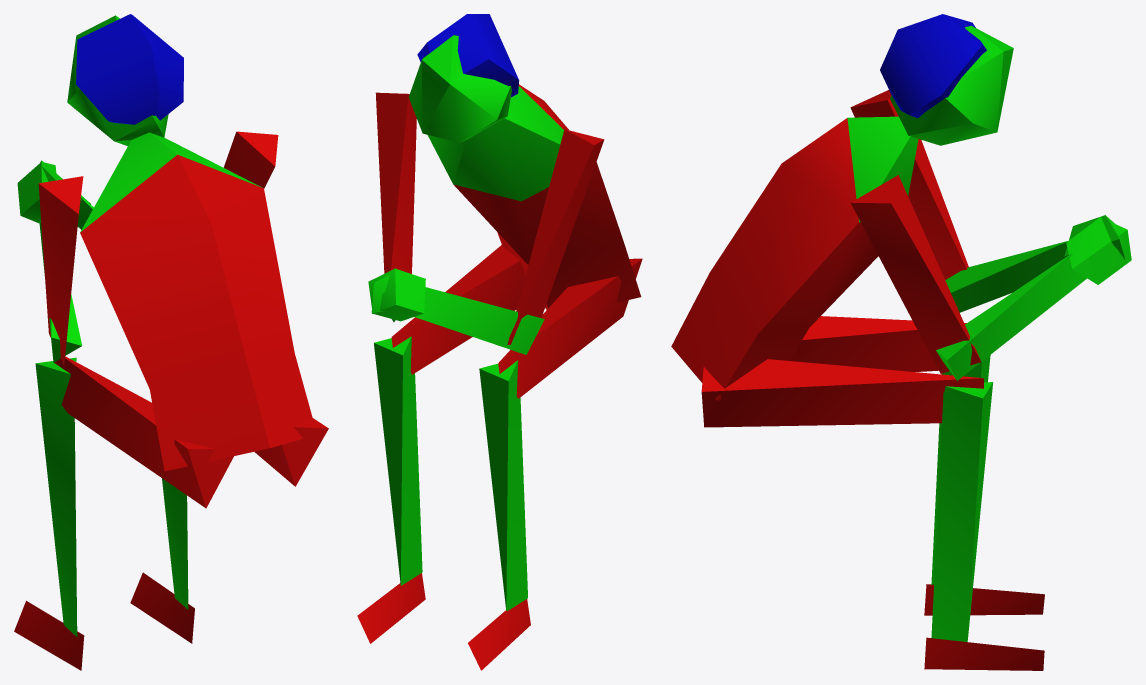
File: sit_lean_lod2.glb
3 renders of one model, left to right at view 1: azimuth 30°, elevation 25°; view 2: azimuth 150°, elevation 25°; view 3: azimuth 270°, elevation 25°, orthographic. The views are drawn at different scales.
Parts seen in each view (by area): view 1: OUT_2; view 2: OUT_2; view 3: OUT_2.
Part boxes in pixels (x1,y1,x2,y2): OUT_2: [14, 14, 328, 670]; OUT_2: [357, 14, 642, 670]; OUT_2: [671, 14, 1131, 670].
Size of the model in its own units: 0.4653 by 1.21 by 0.7974.
